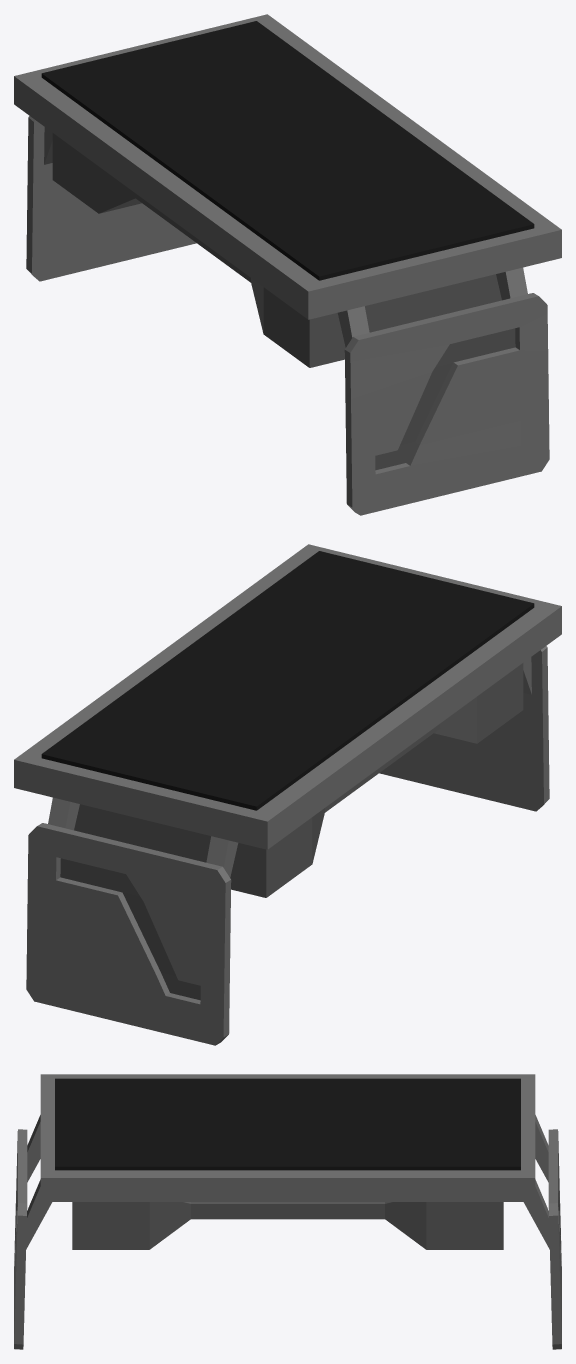
File: MesaGamer.fbx
3 views of the same model, one above another, from view 1: azimuth 30°, elevation 25°; view 2: azimuth 150°, elevation 25°; view 3: azimuth 270°, elevation 25° (orthographic). The views are drawn at different scales.
Parts seen in each view (by area): view 1: Cube; view 2: Cube; view 3: Cube.
Part boxes in pixels (x1,y1,x2,y2): Cube: [14, 14, 561, 515]; Cube: [14, 544, 561, 1045]; Cube: [14, 1074, 561, 1349].
Bounding box in the file's own units: 135 × 115 × 300.
1 material, 1 textured.
